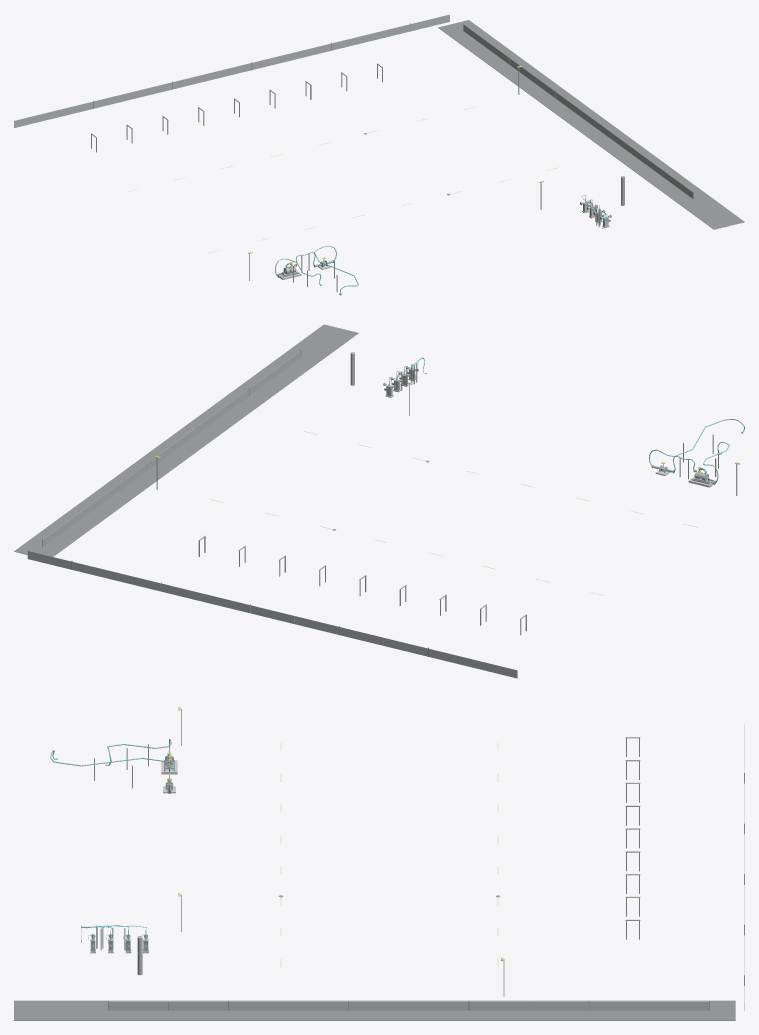
The picture shows the model from 3 angles, top to bottom: view 1: azimuth 30°, elevation 25°; view 2: azimuth 150°, elevation 25°; view 3: azimuth 270°, elevation 25°; orthographic projection. The views are drawn at different scales.
Parts seen in each view (by area): view 1: render-batch-3, render-batch-8, render-batch-6; view 2: render-batch-3, render-batch-8, render-batch-6; view 3: render-batch-3, render-batch-8, render-batch-6.
Part boxes in pixels (<box>): render-batch-3: <box>438,20,744,229</box>; render-batch-8: <box>14,14,692,205</box>; render-batch-6: <box>91,23,693,294</box>; render-batch-3: <box>14,324,358,556</box>; render-batch-8: <box>27,351,526,678</box>; render-batch-6: <box>42,350,742,656</box>; render-batch-3: <box>14,1000,735,1020</box>; render-batch-8: <box>109,724,744,1010</box>; render-batch-6: <box>57,708,744,1010</box>.
Bounding box in the file's own units: 116 × 7.08 × 125.
